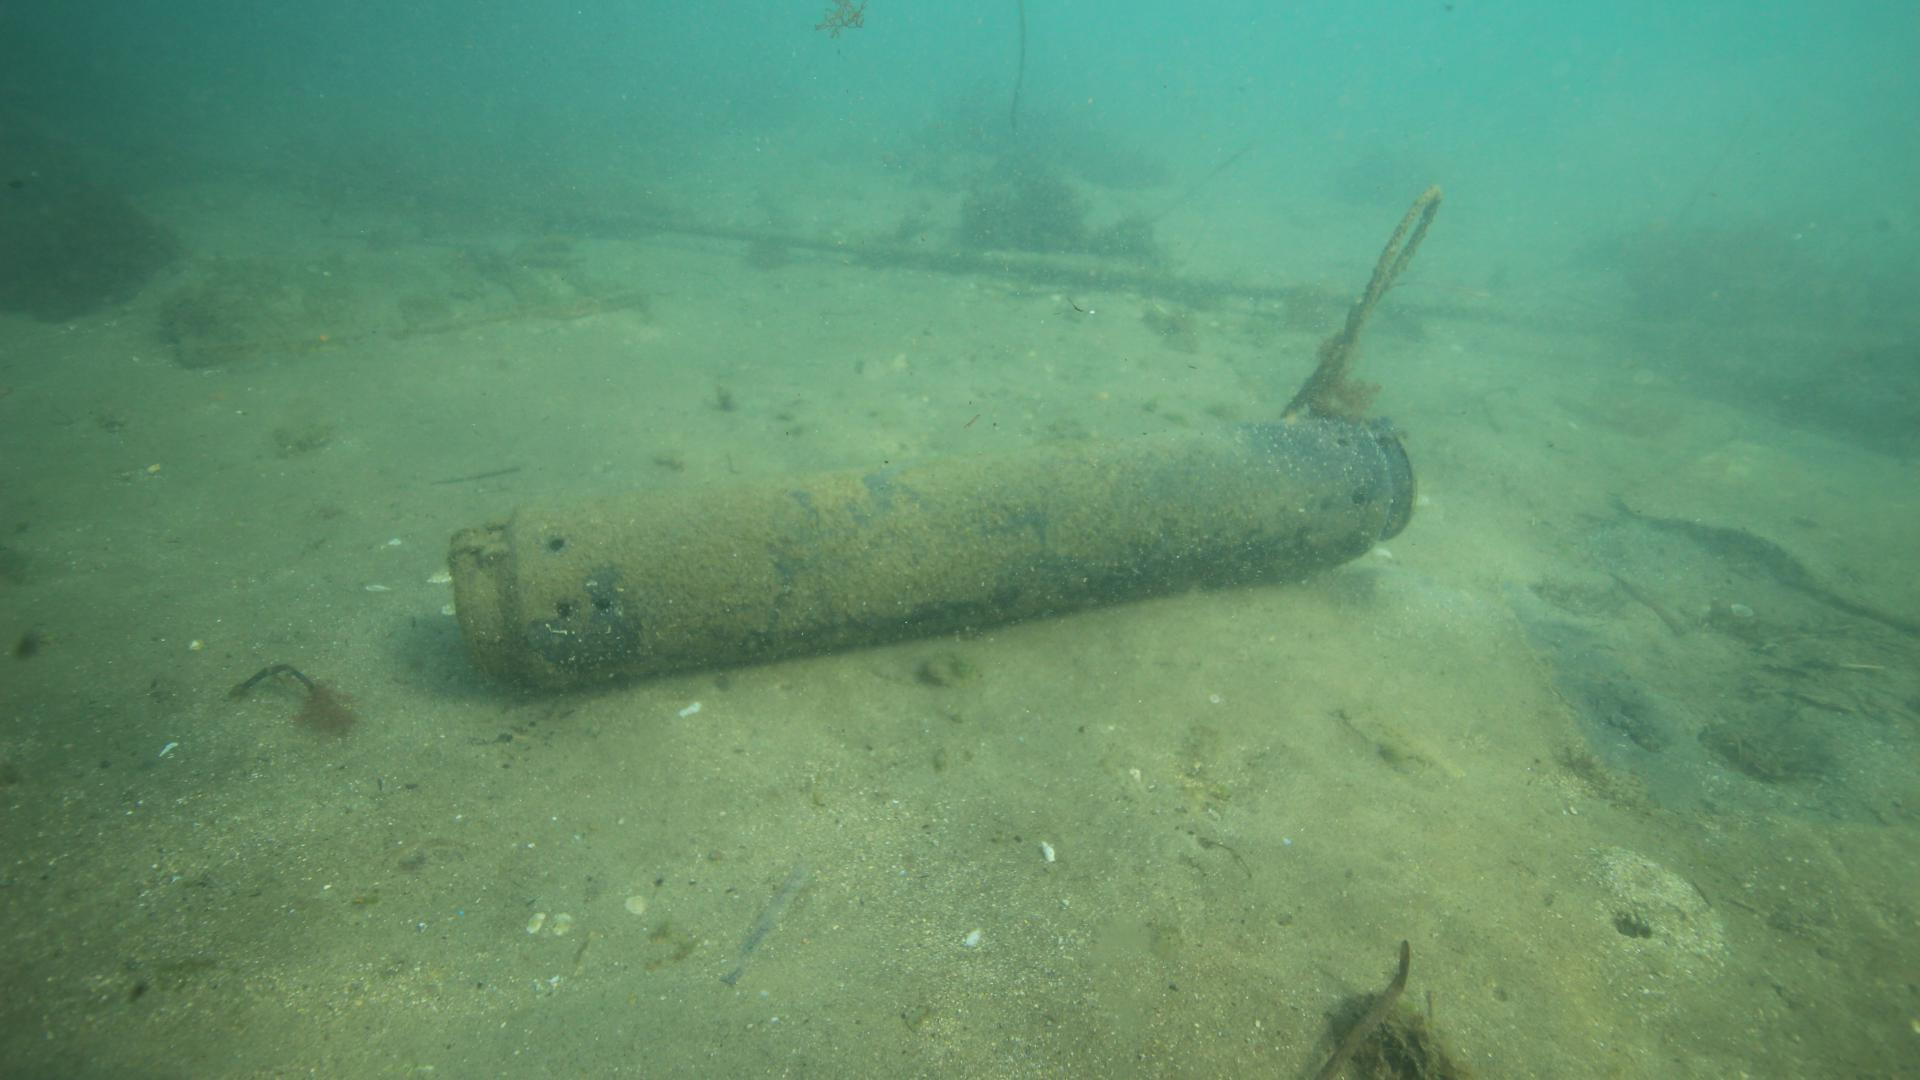eel fish trap: (440, 407, 1422, 698)
rope: (1313, 182, 1443, 390)
